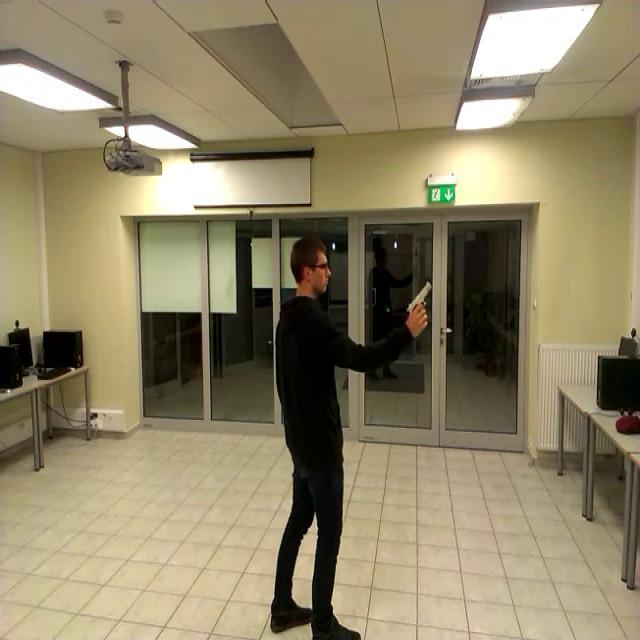gun-knife-thesis - v11 Yolov5 augmented: (398, 270, 433, 328)
